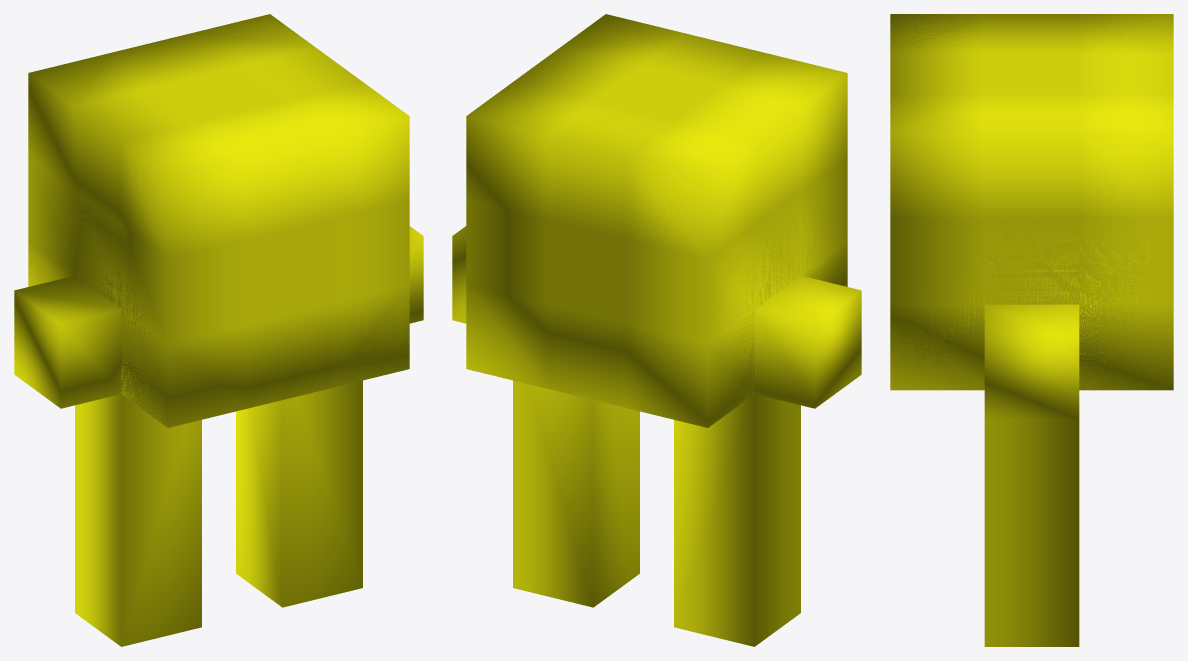
Rendered from minion8.fbx.
The picture shows the model from 3 angles, left to right: view 1: azimuth 30°, elevation 25°; view 2: azimuth 150°, elevation 25°; view 3: azimuth 270°, elevation 25°; orthographic projection.
Parts seen in each view (by area): view 1: Cube; view 2: Cube; view 3: Cube.
Boxes of the visible parts, box(x1,y1,x2,y2) form: Cube: box(14, 14, 423, 646); Cube: box(452, 14, 861, 646); Cube: box(890, 14, 1173, 646).
Bounding box in the file's own units: 0.75 × 1 × 0.5.
